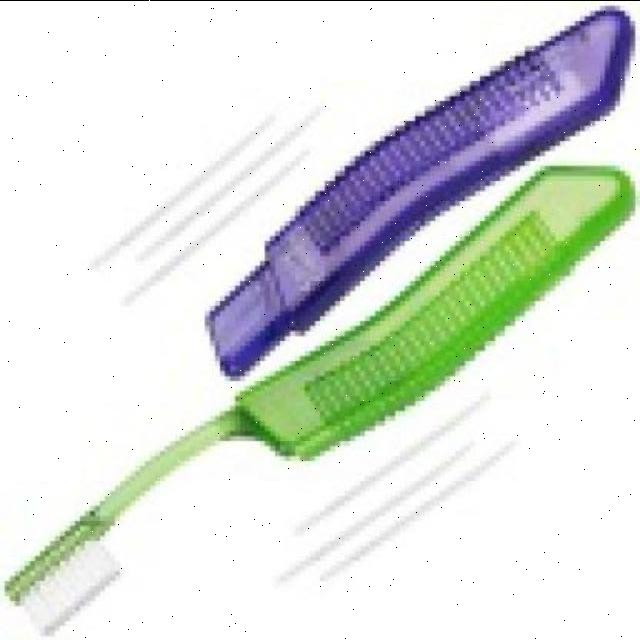toothbrush: (1, 20, 636, 640)
